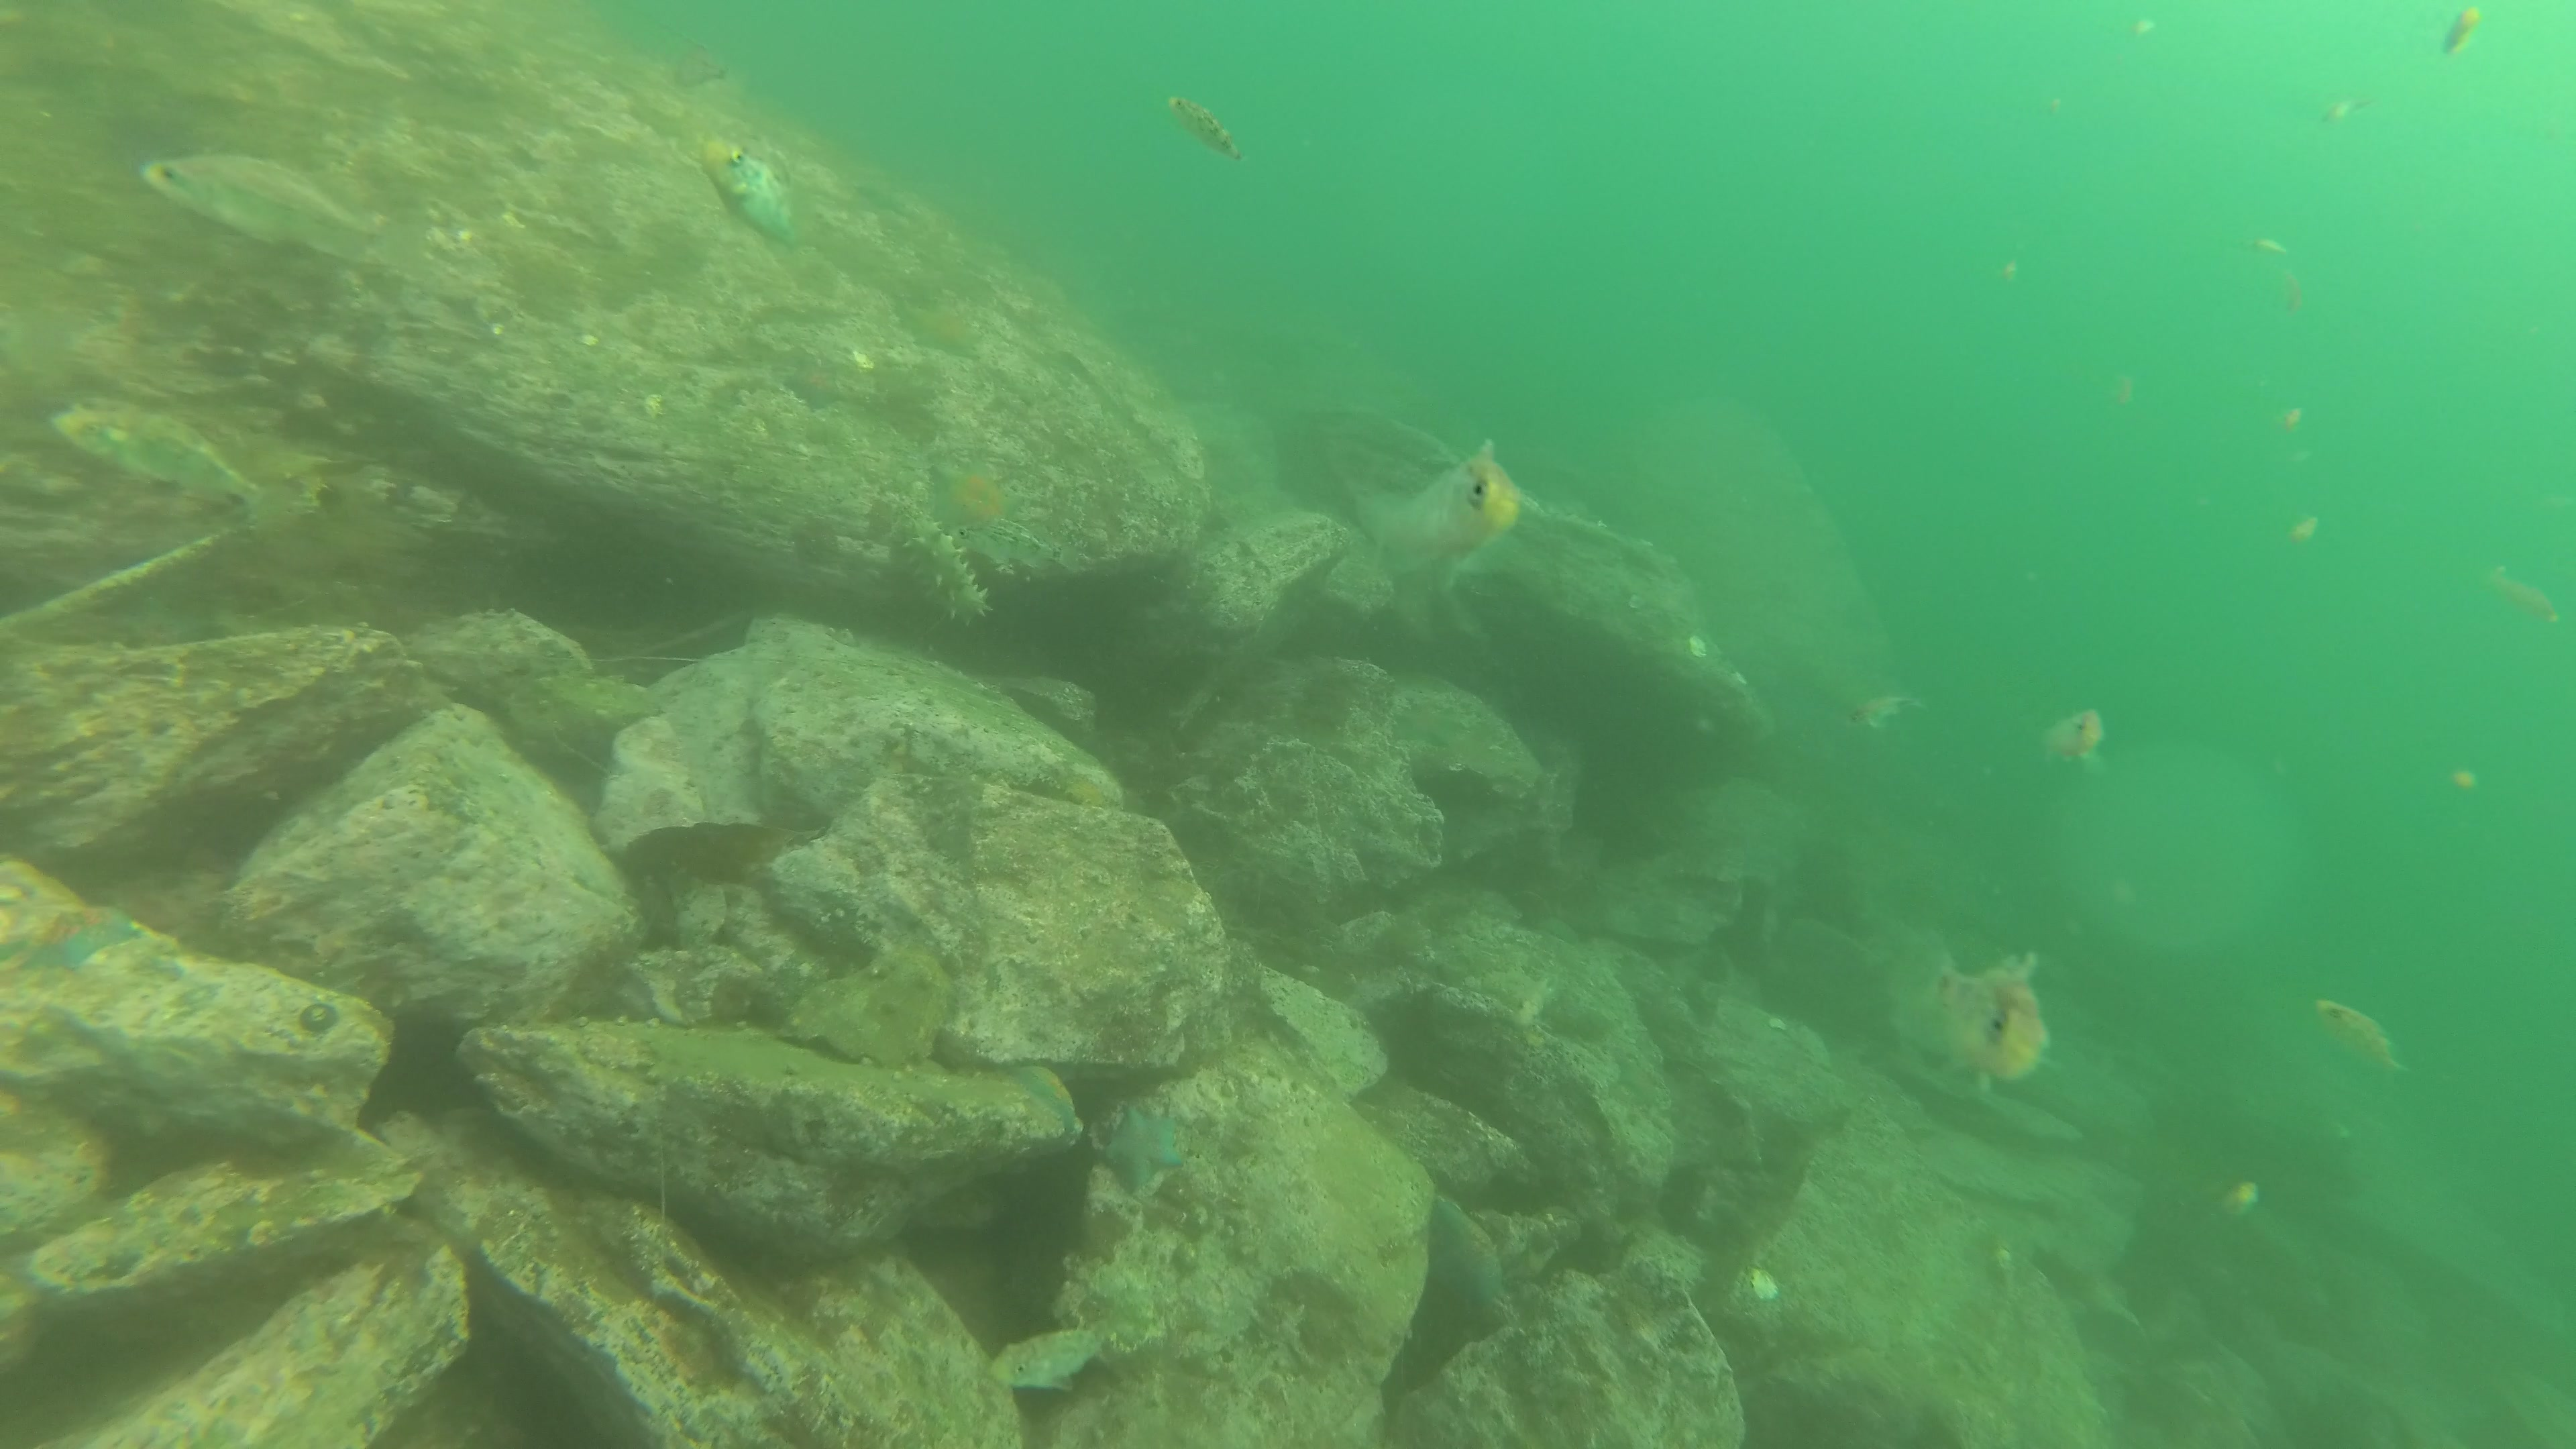holothurian: (879, 488, 1000, 632)
starfish: (924, 455, 1017, 566), (18, 901, 142, 975), (1431, 1196, 1507, 1313), (1092, 1106, 1185, 1194), (902, 295, 989, 361), (1008, 1062, 1079, 1138), (782, 354, 846, 414)
